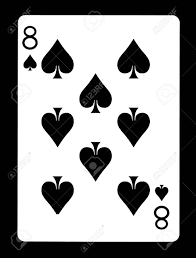eight of spades: (18, 15, 178, 242)
